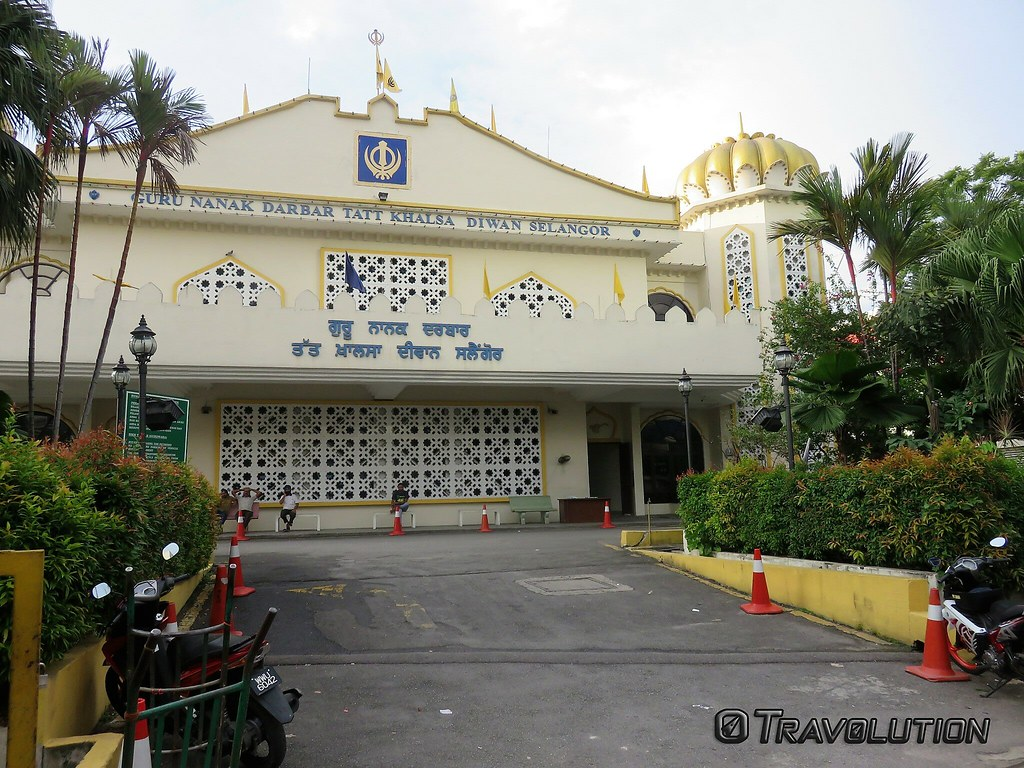Gurdwara: (17, 29, 823, 517)
